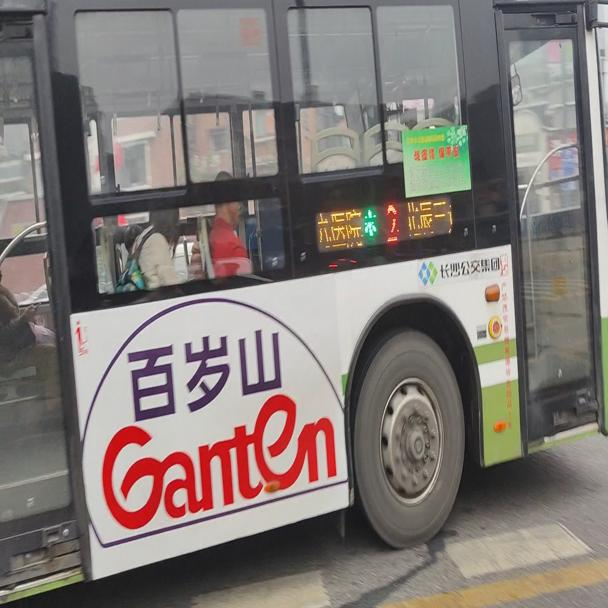screen: (377, 202, 405, 245)
